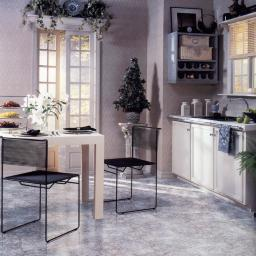Electrodomestico: (196, 101, 243, 125)
Matera: (111, 56, 149, 123)
